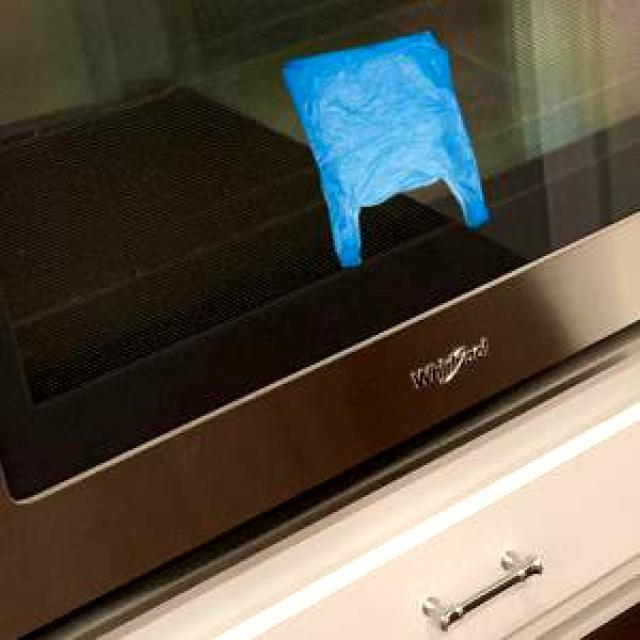Plastic_Bag: (280, 28, 486, 264)
